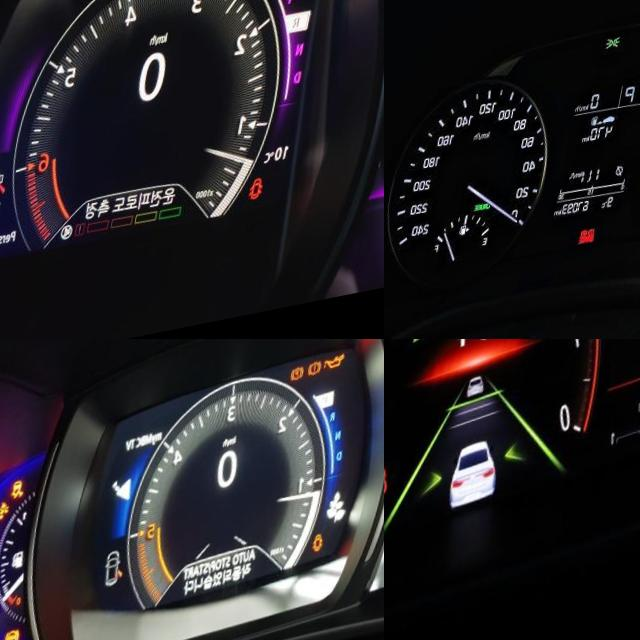Doors: (268, 192, 286, 216), (327, 547, 341, 568)
LaneCenteringOff: (422, 339, 452, 355)
Low fuel level: (0, 600, 10, 621)
SideLamp: (614, 48, 630, 63)
